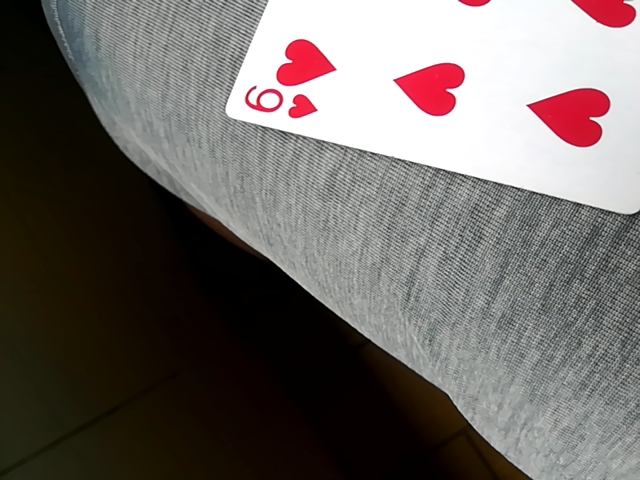hx 6: (222, 0, 640, 208)
